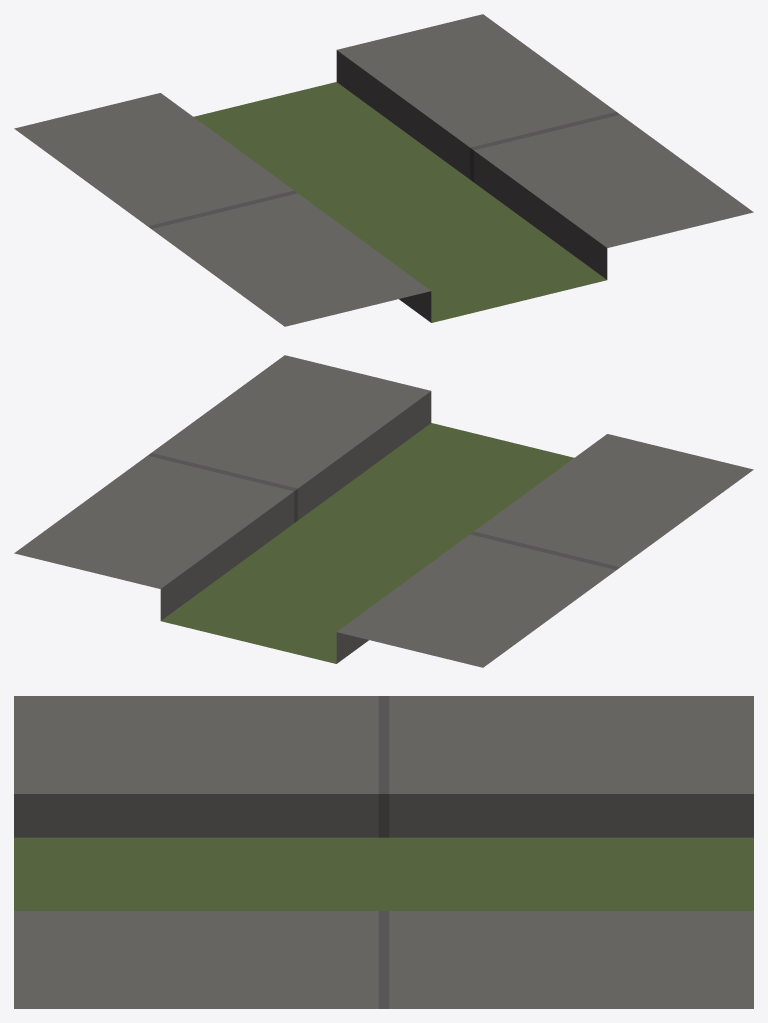
File: AI_Env_Sewer_Floor_Straight.fbx
3 renders of one model, top to bottom at view 1: azimuth 30°, elevation 25°; view 2: azimuth 150°, elevation 25°; view 3: azimuth 270°, elevation 25°, orthographic. The views are drawn at different scales.
Visible parts, largest first — view 1: AI_Env_Sewer_Floor_Straight; view 2: AI_Env_Sewer_Floor_Straight; view 3: AI_Env_Sewer_Floor_Straight.
Part boxes in pixels (left/top/right/bottom): AI_Env_Sewer_Floor_Straight: left=14, top=14, right=753, bottom=326; AI_Env_Sewer_Floor_Straight: left=14, top=355, right=753, bottom=667; AI_Env_Sewer_Floor_Straight: left=14, top=696, right=753, bottom=1008.
Bounding box in the file's own units: 5 × 0.3261 × 5.
